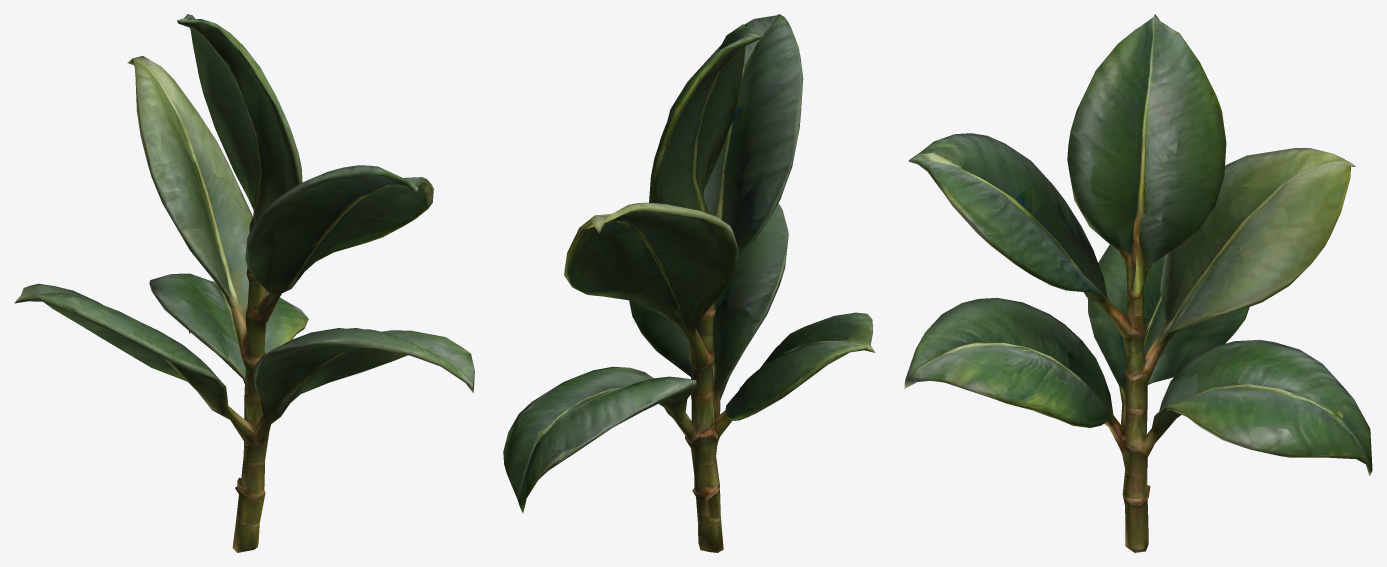
Rendered from cafe-plant-rubber.glb.
The picture shows the model from 3 angles, left to right: view 1: azimuth 30°, elevation 25°; view 2: azimuth 150°, elevation 25°; view 3: azimuth 270°, elevation 25°; orthographic projection. The views are drawn at different scales.
Visible parts, largest first — view 1: tripo_node_1a6967de-4bd6-4366-a141-3bd9ba861999; view 2: tripo_node_1a6967de-4bd6-4366-a141-3bd9ba861999; view 3: tripo_node_1a6967de-4bd6-4366-a141-3bd9ba861999.
Boxes of the visible parts, left/top/right/bottom form: tripo_node_1a6967de-4bd6-4366-a141-3bd9ba861999: left=14, top=14, right=474, bottom=552; tripo_node_1a6967de-4bd6-4366-a141-3bd9ba861999: left=503, top=14, right=875, bottom=552; tripo_node_1a6967de-4bd6-4366-a141-3bd9ba861999: left=904, top=14, right=1372, bottom=552.
Size of the model in its own units: 0.356 by 0.55 by 0.46.
1 material, 1 textured.
